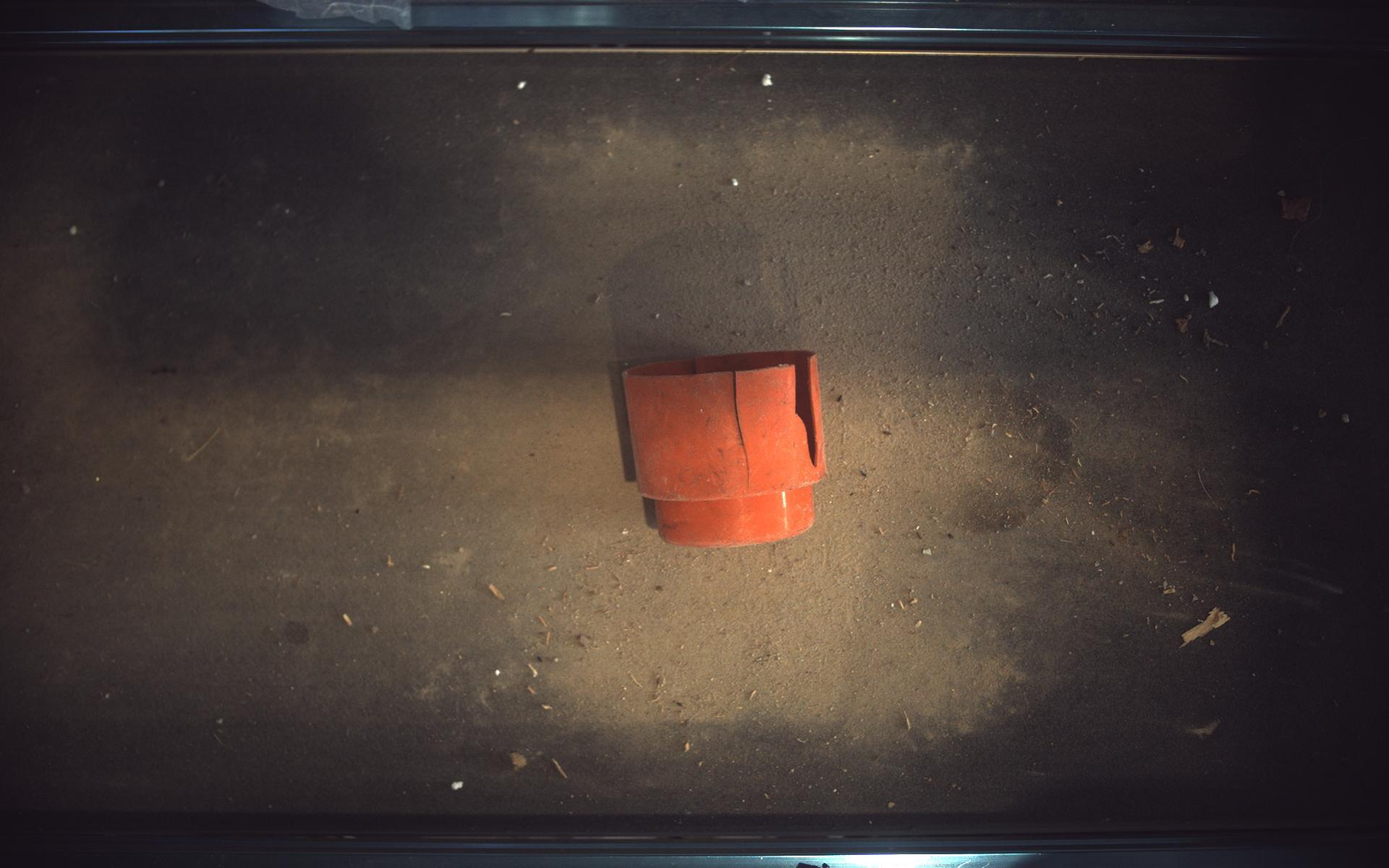plastic: (623, 351, 828, 548)
